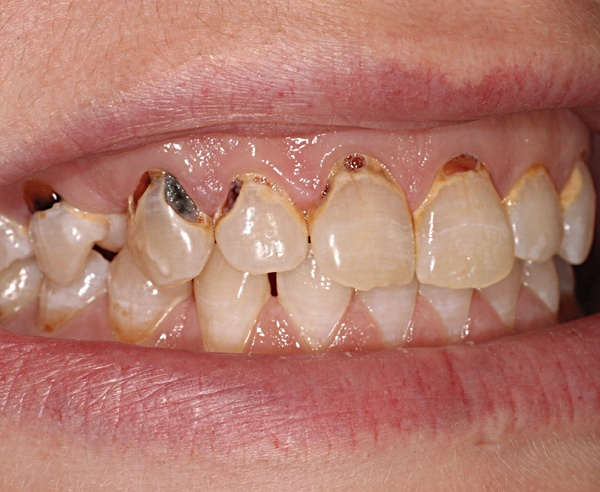karies: (315, 149, 403, 204), (130, 169, 202, 227), (217, 174, 289, 219), (441, 151, 489, 179), (22, 180, 65, 211)
